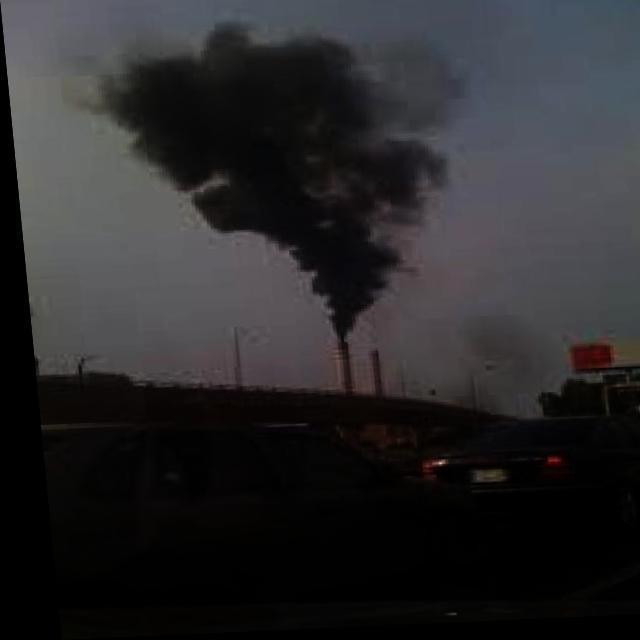Smoke: (57, 11, 483, 352)
